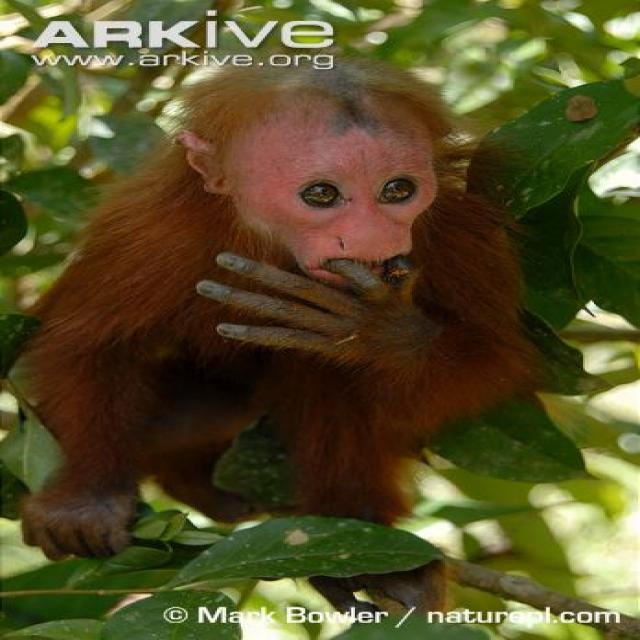not_pig: (7, 47, 552, 562)
